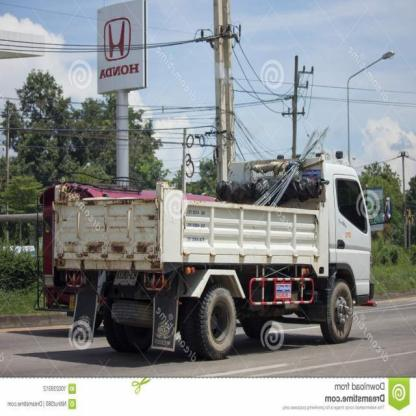truck: (38, 128, 377, 359)
